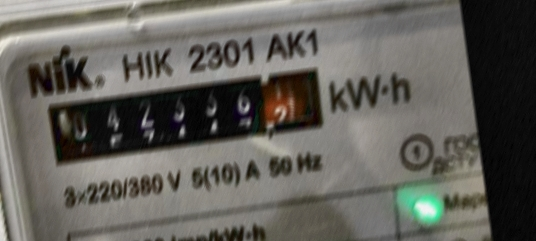0: (68, 110, 87, 140)
1: (268, 78, 283, 101)
2: (135, 97, 154, 128), (270, 103, 288, 123)
3: (198, 86, 218, 118), (166, 92, 185, 122)
4: (101, 101, 122, 132)
6: (232, 83, 253, 115)
screen: (33, 54, 337, 174)
